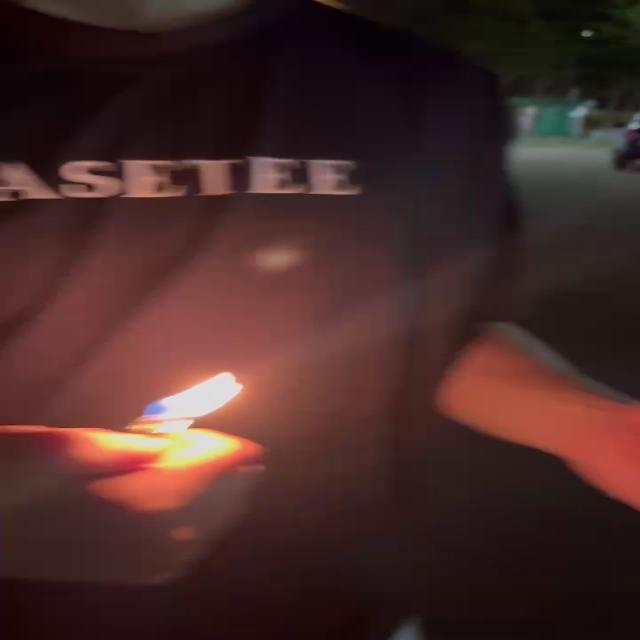Fire: (132, 369, 248, 420)
